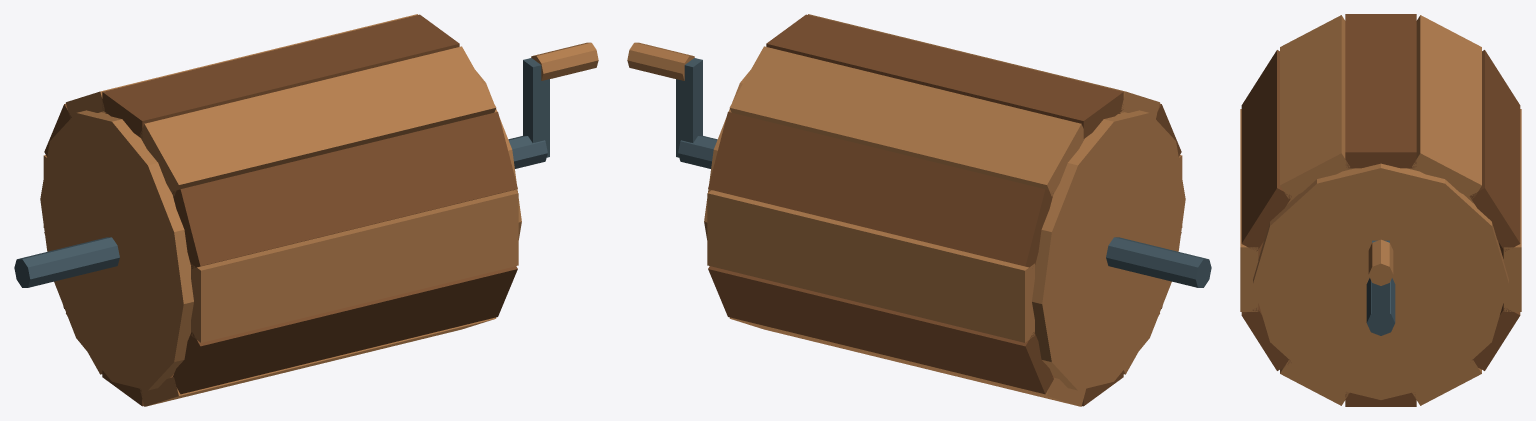
File: Spin_Yayik.fbx
The picture shows the model from 3 angles, left to right: view 1: azimuth 30°, elevation 25°; view 2: azimuth 150°, elevation 25°; view 3: azimuth 270°, elevation 25°; orthographic projection. The views are drawn at different scales.
Visible parts, largest first — view 1: Spin_Yayik; view 2: Spin_Yayik; view 3: Spin_Yayik.
Boxes of the visible parts, x1=… form: Spin_Yayik: x1=14, y1=14, x2=598, y2=406; Spin_Yayik: x1=627, y1=14, x2=1211, y2=406; Spin_Yayik: x1=1240, y1=14, x2=1521, y2=406.
Size of the model in its own units: 165 by 79 by 79.
